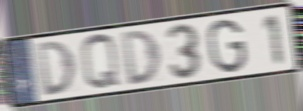1: (262, 13, 287, 66)
3: (165, 22, 204, 81)
D: (119, 27, 163, 88), (34, 38, 78, 98)
G: (206, 17, 249, 75)
Q: (79, 32, 124, 93)
